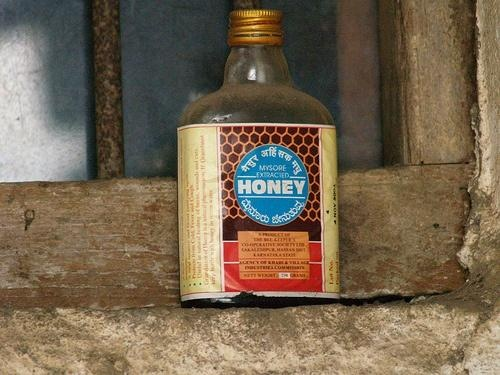bottle: (179, 10, 339, 304)
